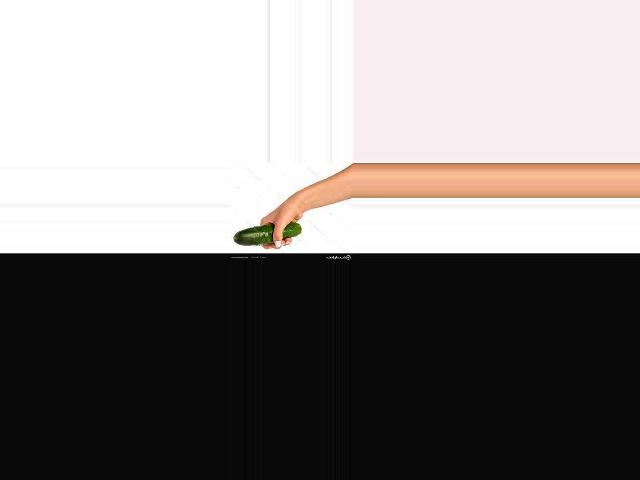cucumber: (232, 222, 301, 246)
